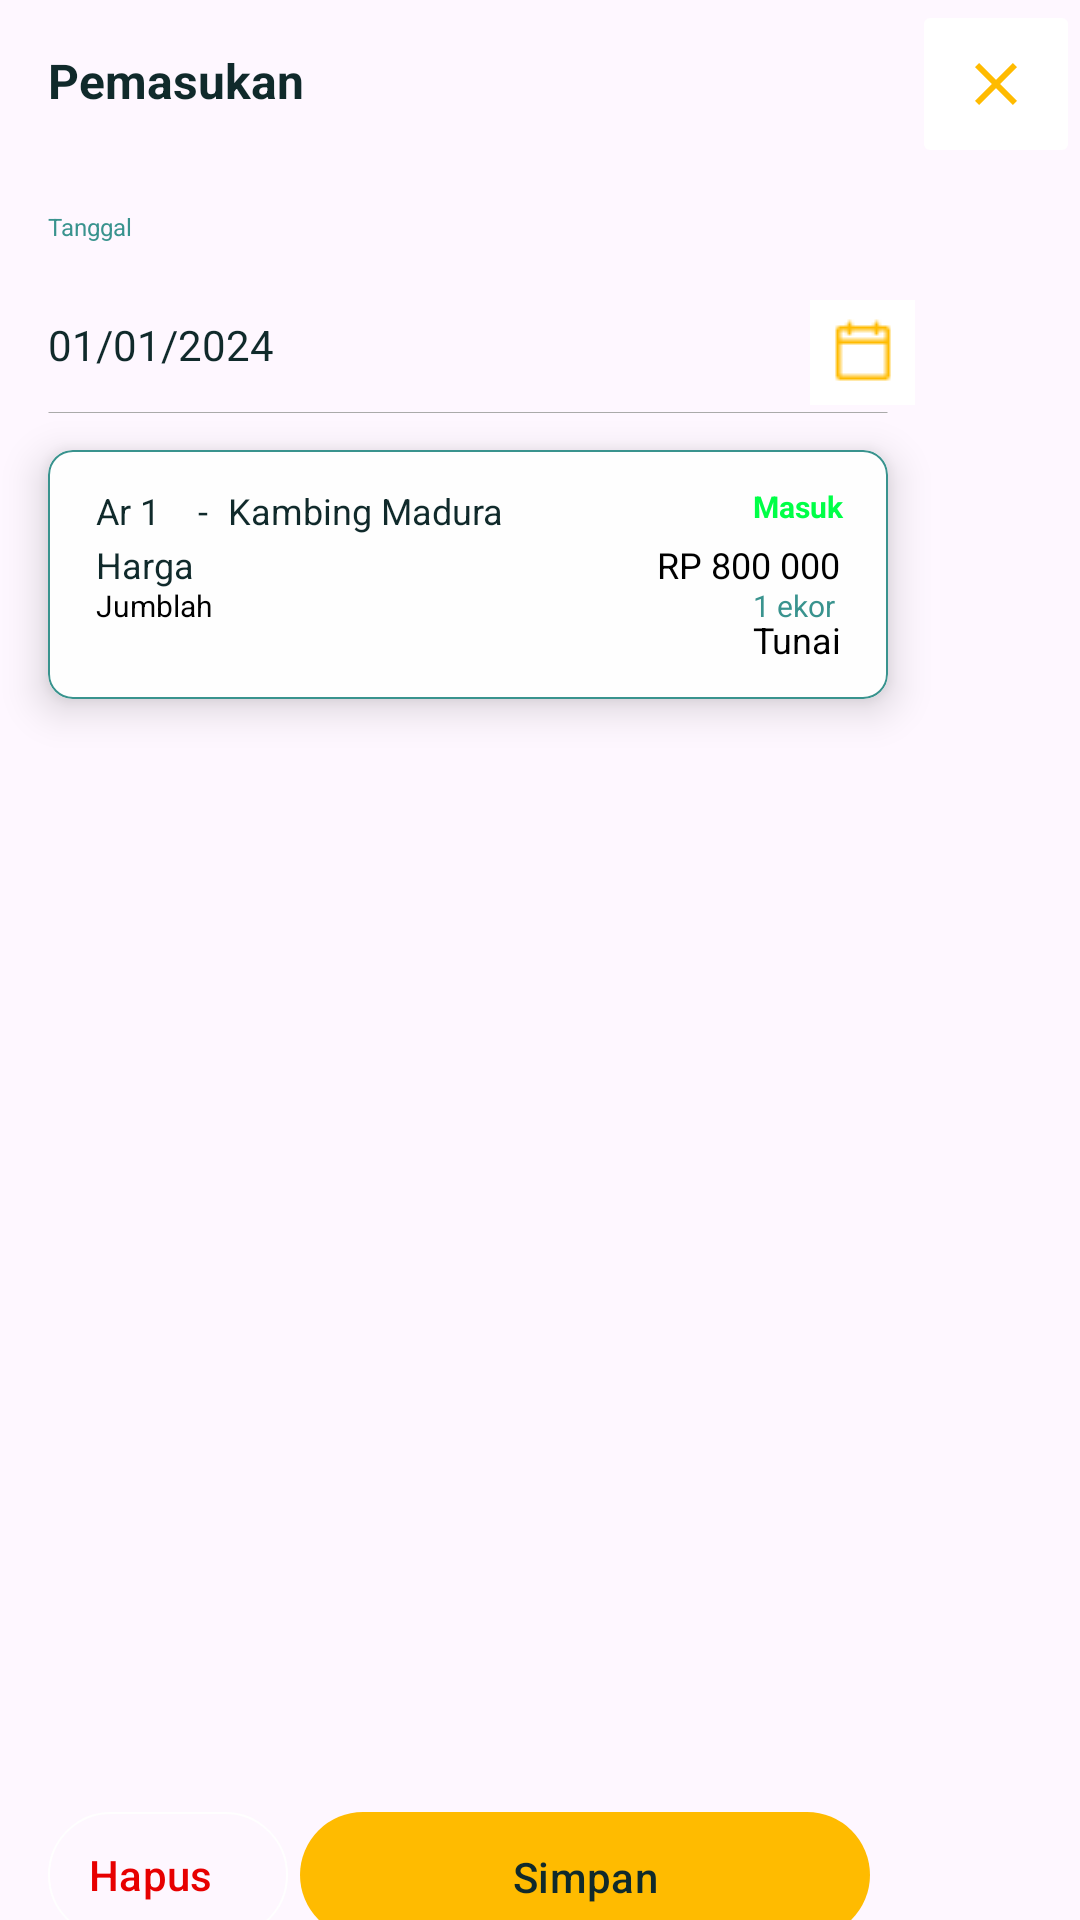

Icon click points for this 1080px x 1920px phone screenshot, format (x,y):
cross: (996,84)
iconstanggal: (863,350)
